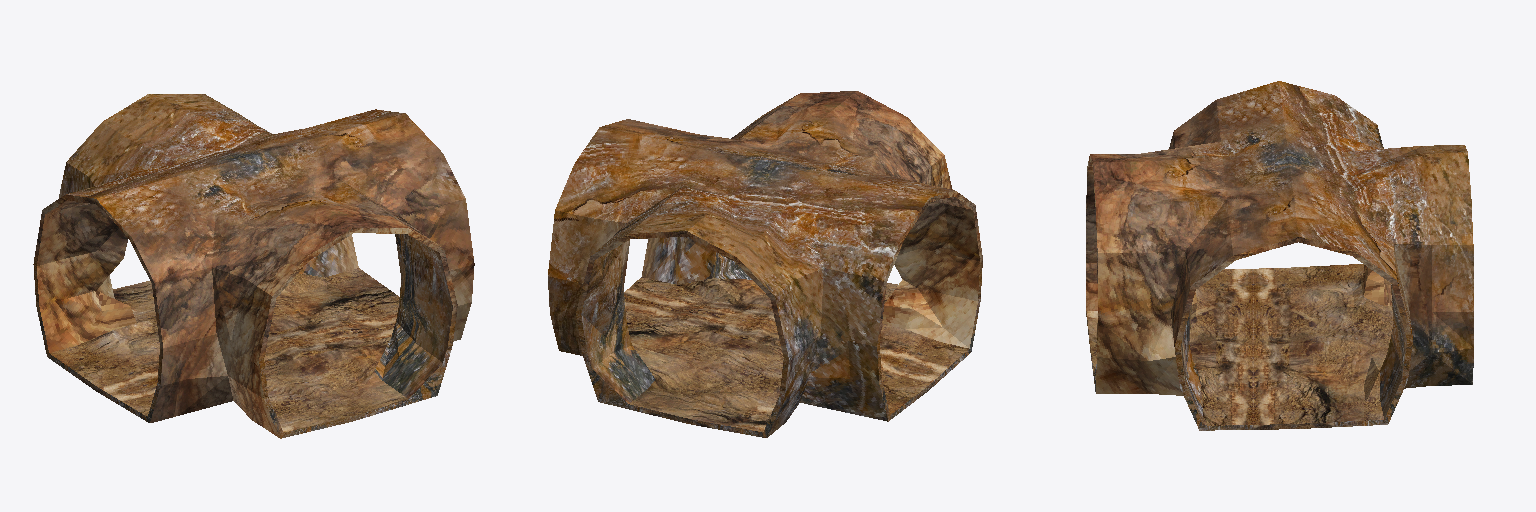
3 renders of one model, left to right at view 1: azimuth 30°, elevation 25°; view 2: azimuth 150°, elevation 25°; view 3: azimuth 270°, elevation 25°, orthographic.
Visible parts, largest first — view 1: cavelarge; view 2: cavelarge; view 3: cavelarge.
Boxes of the visible parts, x1=… form: cavelarge: x1=33, y1=94, x2=474, y2=438; cavelarge: x1=548, y1=91, x2=982, y2=437; cavelarge: x1=1086, y1=81, x2=1473, y2=430.
Size of the model in its own units: 163 by 91.18 by 166.
1 materials, 1 textured.